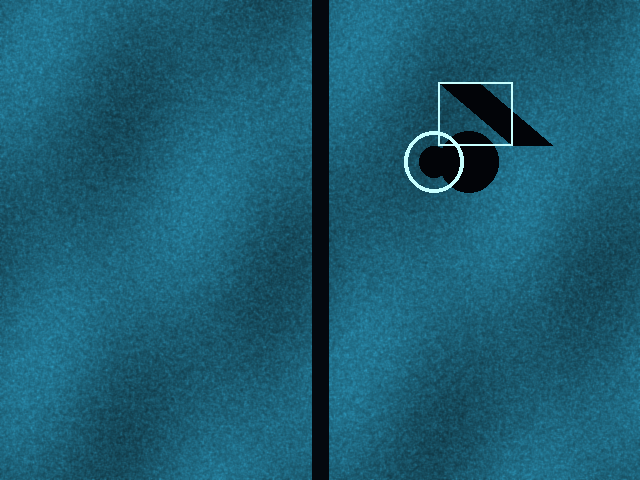Plastic Debris: (438, 82, 512, 145)
Tire: (404, 131, 463, 192)
